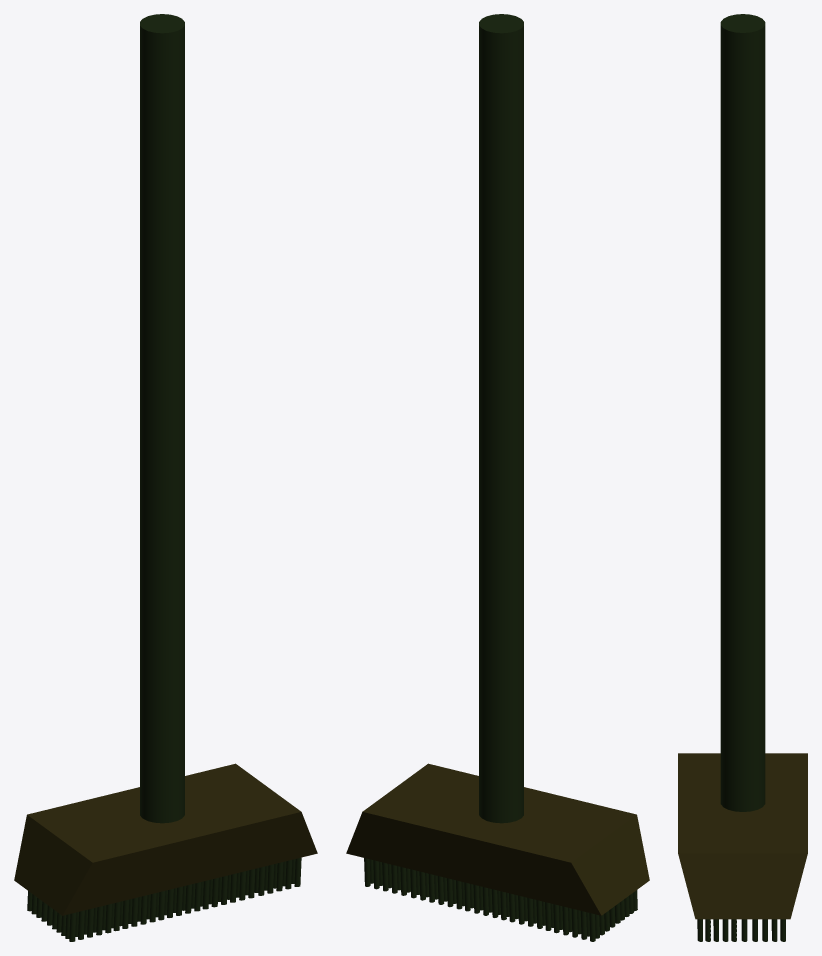
File: Escoba.fbx
3 views of the same model, side by side, from view 1: azimuth 30°, elevation 25°; view 2: azimuth 150°, elevation 25°; view 3: azimuth 270°, elevation 25° (orthographic).
Parts seen in each view (by area): view 1: Cylinder001; view 2: Cylinder001; view 3: Cylinder001.
Part boxes in pixels (box(x1,y1,x2,y2)): Cylinder001: box(14, 14, 317, 941); Cylinder001: box(346, 14, 649, 941); Cylinder001: box(678, 14, 807, 941).
Bounding box in the file's own units: 27.29 × 89.33 × 12.18.
